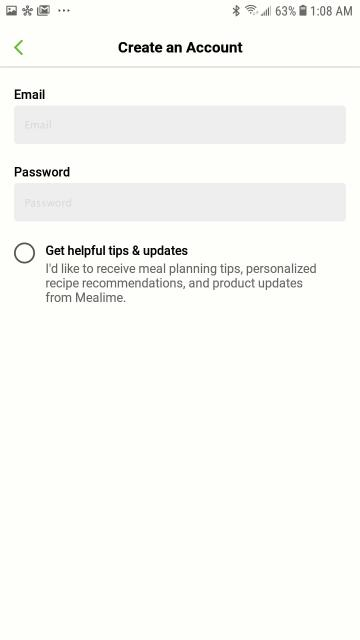CheckedTextView: (13, 242, 187, 264)
EditText: (14, 182, 346, 222), (14, 105, 346, 144)
Icon: (14, 39, 24, 55)
Text: (46, 264, 316, 302), (45, 245, 187, 258), (118, 42, 242, 52), (14, 167, 70, 177), (26, 198, 70, 206), (14, 89, 44, 99), (25, 120, 51, 128)
Toolbar: (0, 28, 360, 66)
UpperTaskBar: (0, 0, 359, 16)
